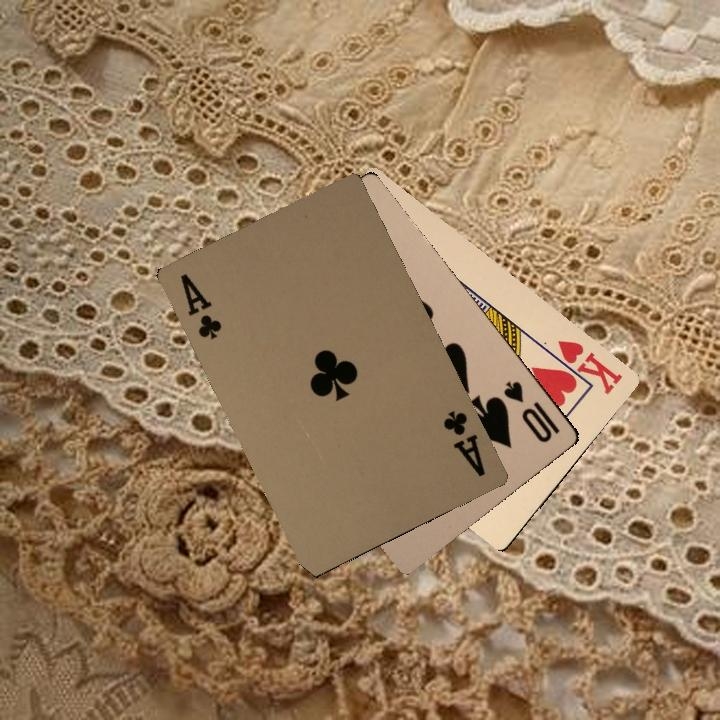10s: (499, 376, 562, 446)
Ac: (438, 406, 488, 479), (176, 269, 224, 342)
Kh: (544, 335, 625, 398)
